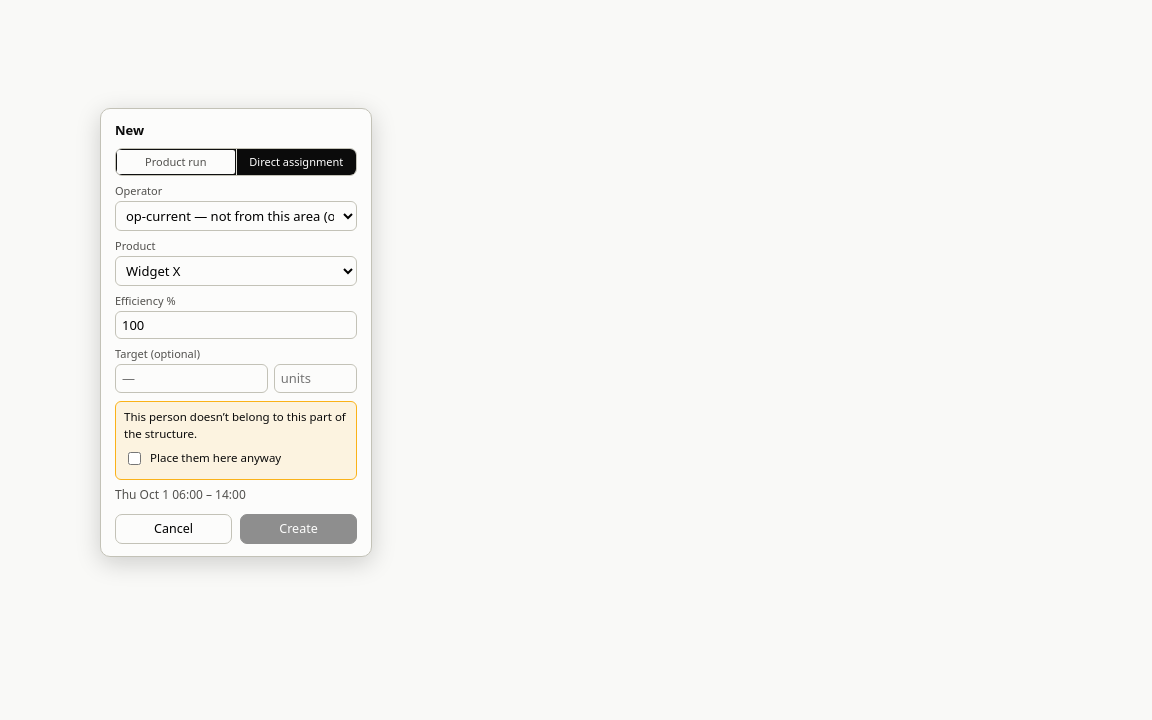
Scenario: D113: a person from another area of this plant is marked and asked why › ⭐ Create is refused until the box is ticked AND a reason is typed
Check: the button "Create" is disabled, box [240,514,357,544]
Click the checkbox labelled "Place them here anyway" at (134, 458), box [128,452,141,465]
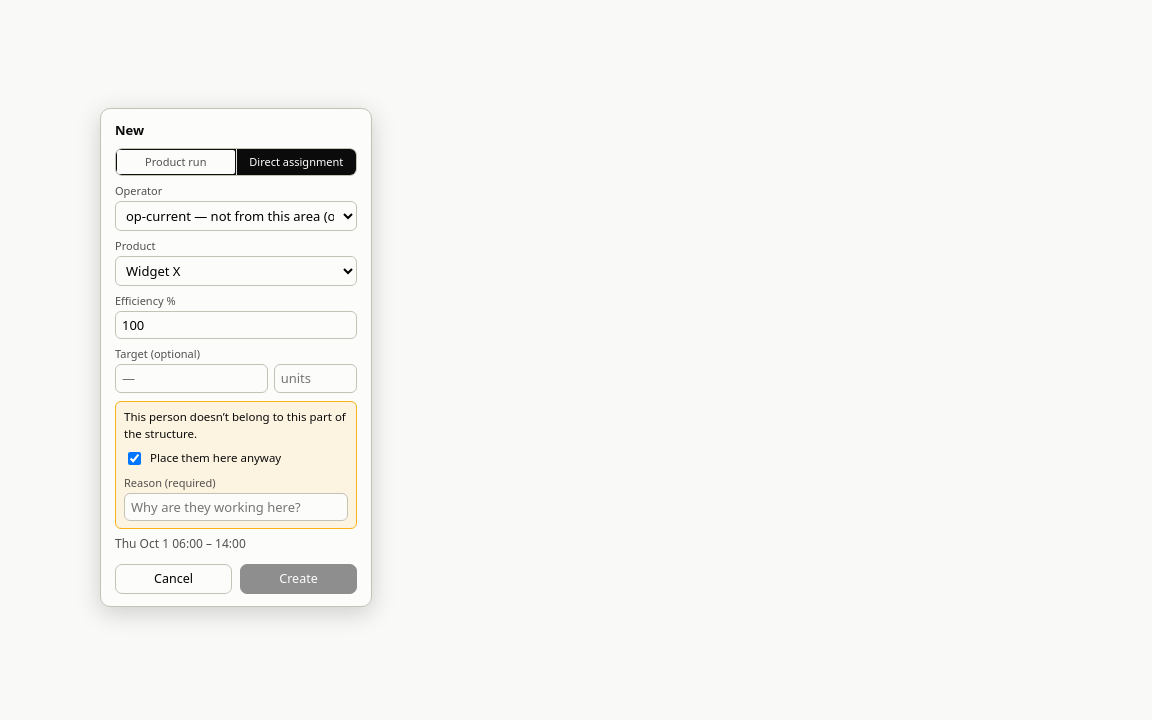
Check: the button "Create" is disabled, box [240,564,357,594]
Type "Covering a sickness on Line 1" into the field labelled "Reason (required)" at (236, 507), box [124,492,348,521]
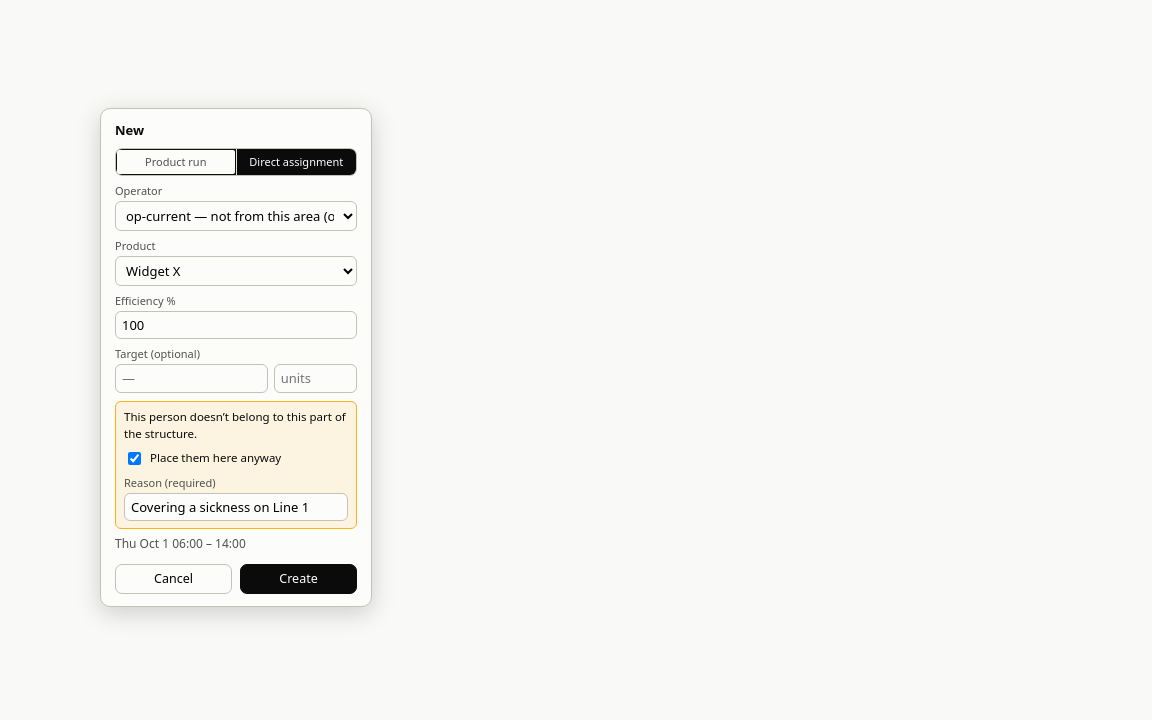
Check: the button "Create" is enabled, box [240,564,357,594]
